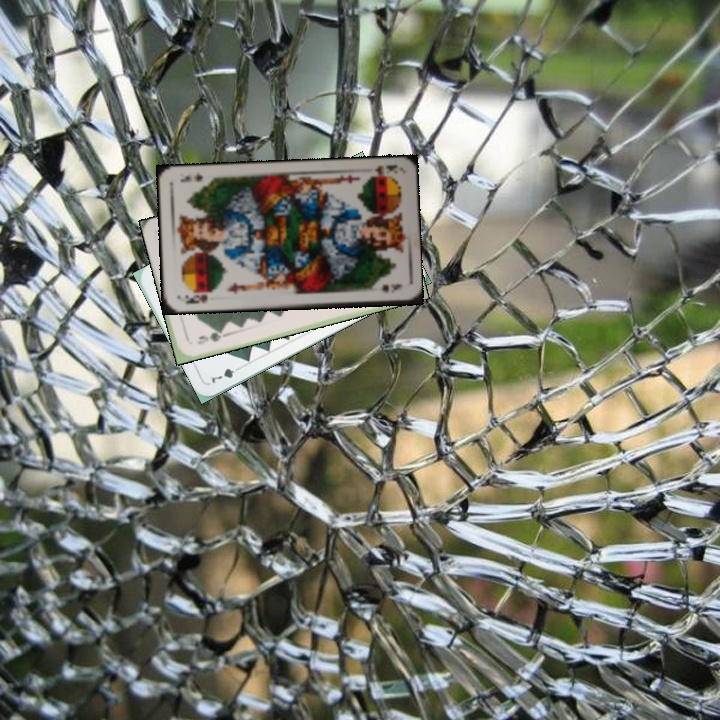G7: (207, 362, 245, 386)
G9: (194, 328, 227, 347)
SK: (366, 161, 400, 180), (181, 291, 210, 306)
